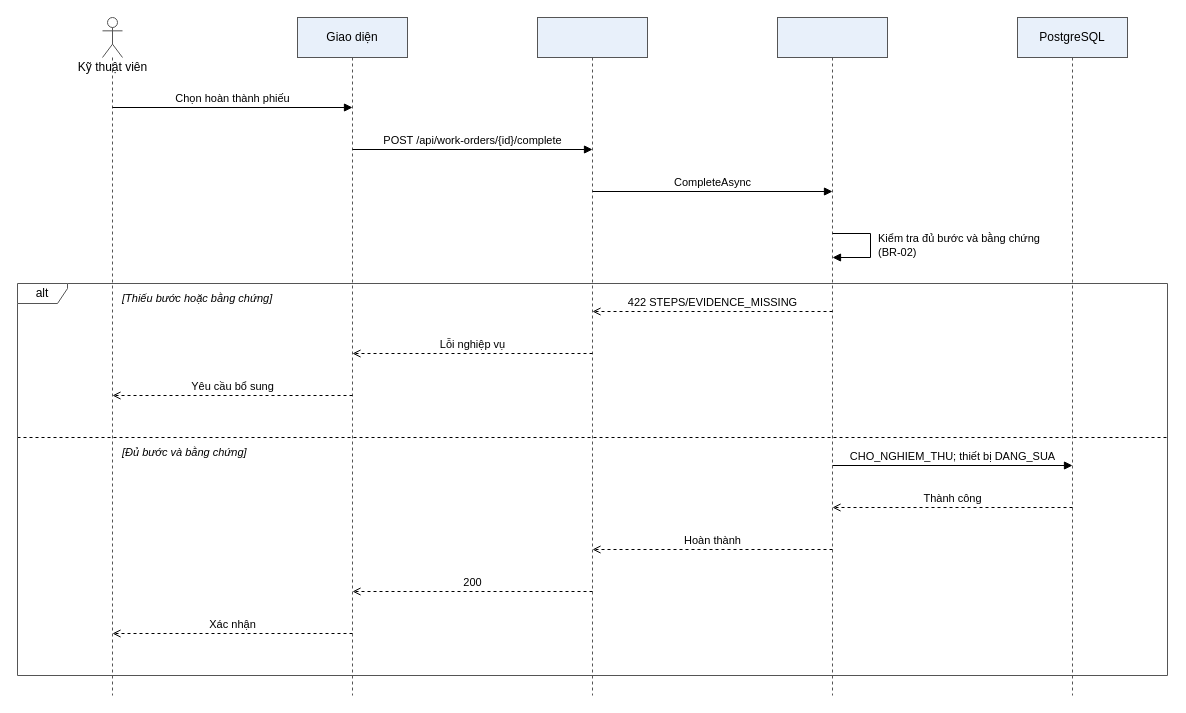
Some shapes in this 1186 by 713 pixel diagram are drawn without their labels. The box of each missing label's shape, as (x1, y1, x2, y2) in pixels:
API: (536, 16, 648, 696)
WorkOrderService: (776, 16, 888, 696)
